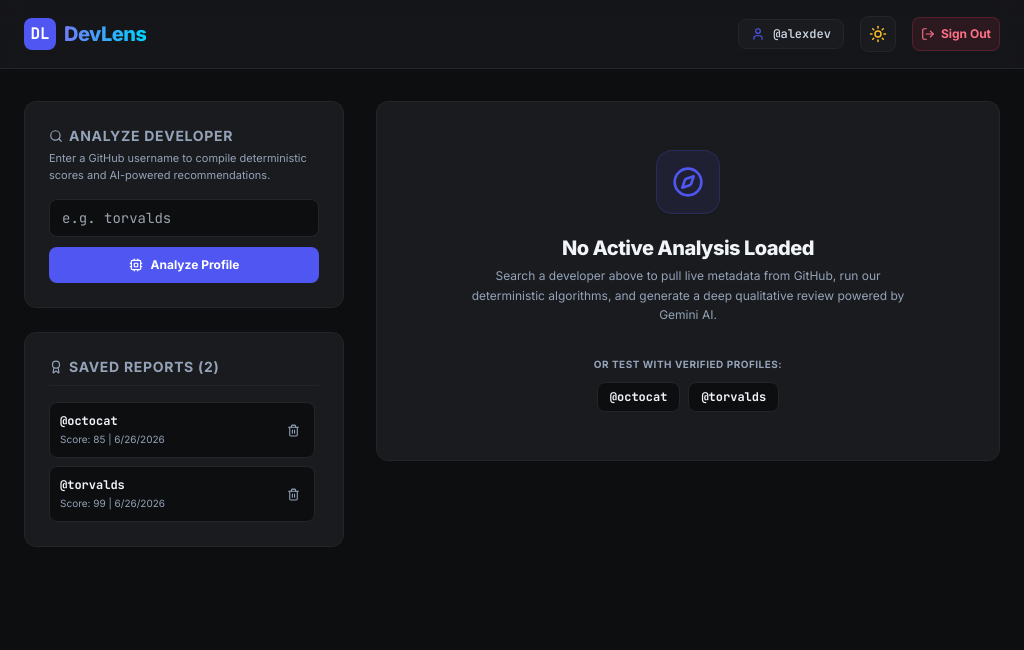
Test: AI Insights Dashboard Integration Suite (Module 4.3) › loads a saved report from the sidebar library when clicked
The width and height of the screenshot is (1024, 650).
Click the text "@torvalds" at (92, 485), box [60, 477, 125, 493]
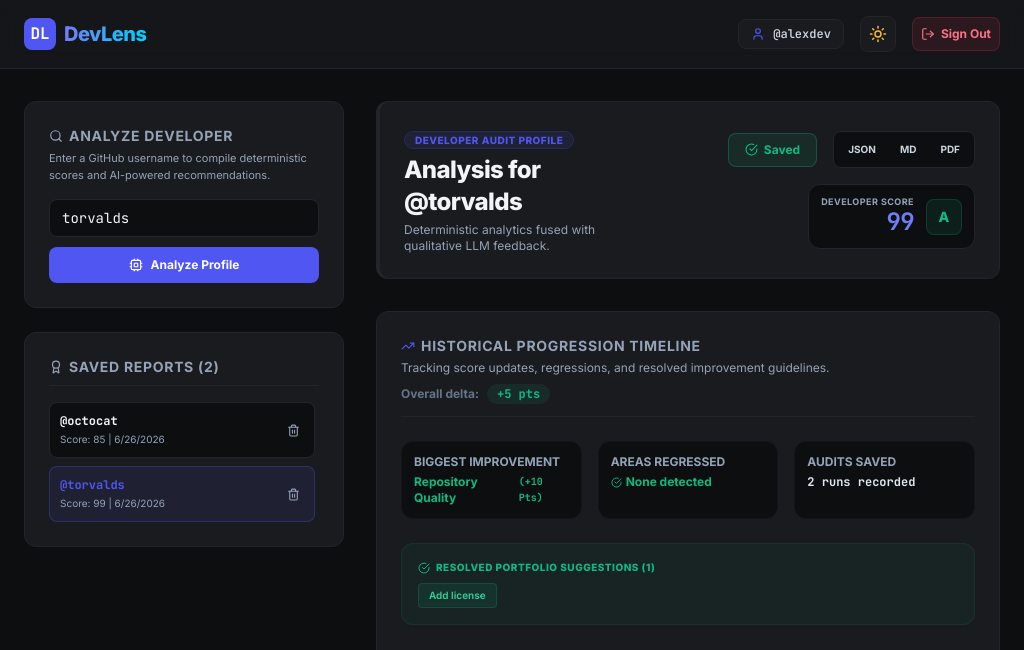
Expected: the heading "Analysis for @torvalds" is shown, [404, 155, 540, 216]
Expected: the text "99" is shown, [886, 206, 914, 237]
